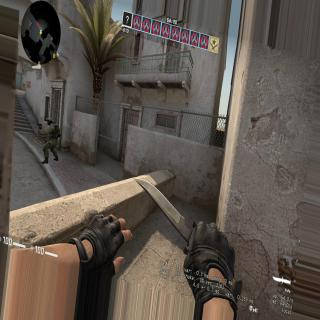CT-Body: (39, 114, 61, 162)
CT-Head: (46, 115, 54, 126)
